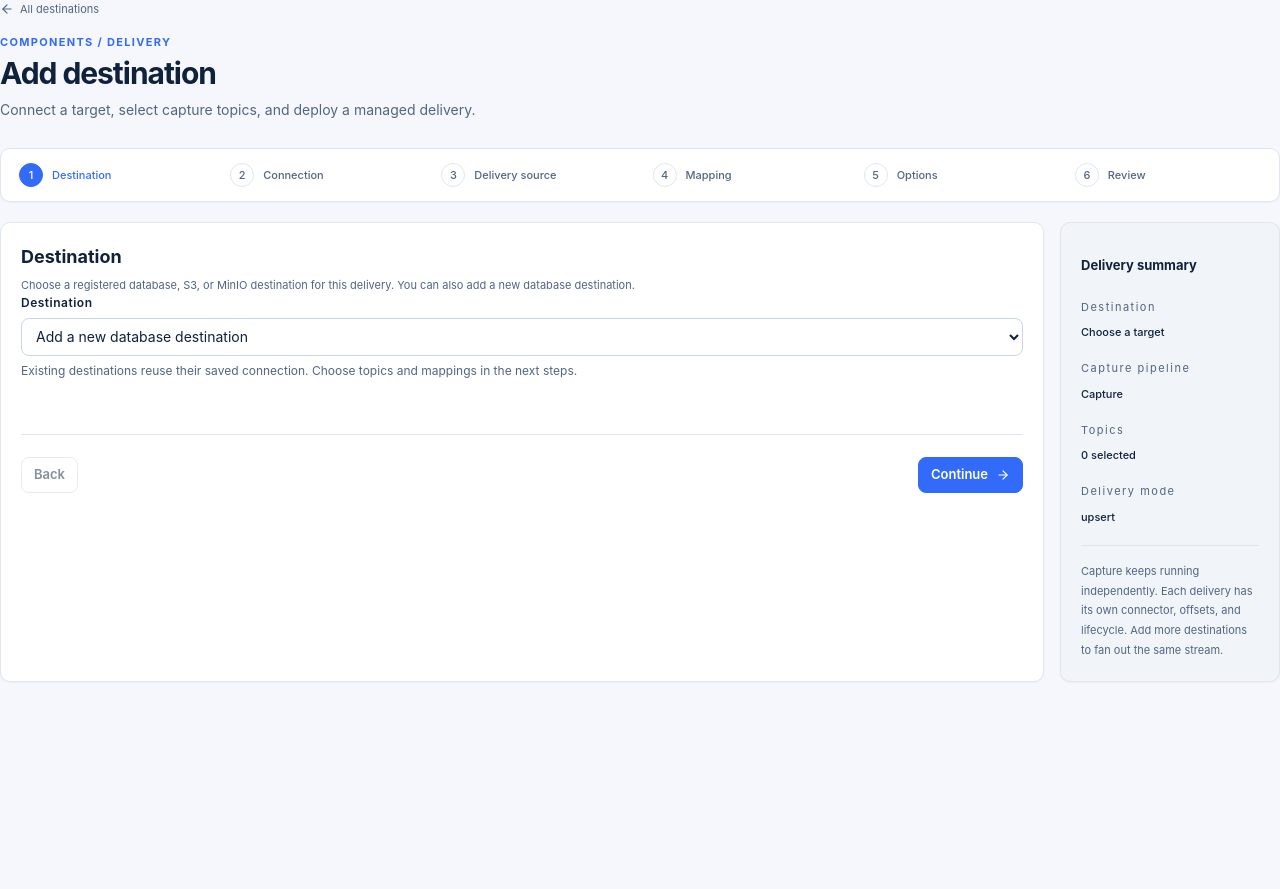
Scenario: reuses a registered destination and lets the user switch back to creating one
Step 1. Select "Analytics · PostgreSQL · PROD" in the dropdown labelled "Destination" → {"x": 522, "y": 337}, box x1=21 y1=318 x2=1023 y2=356
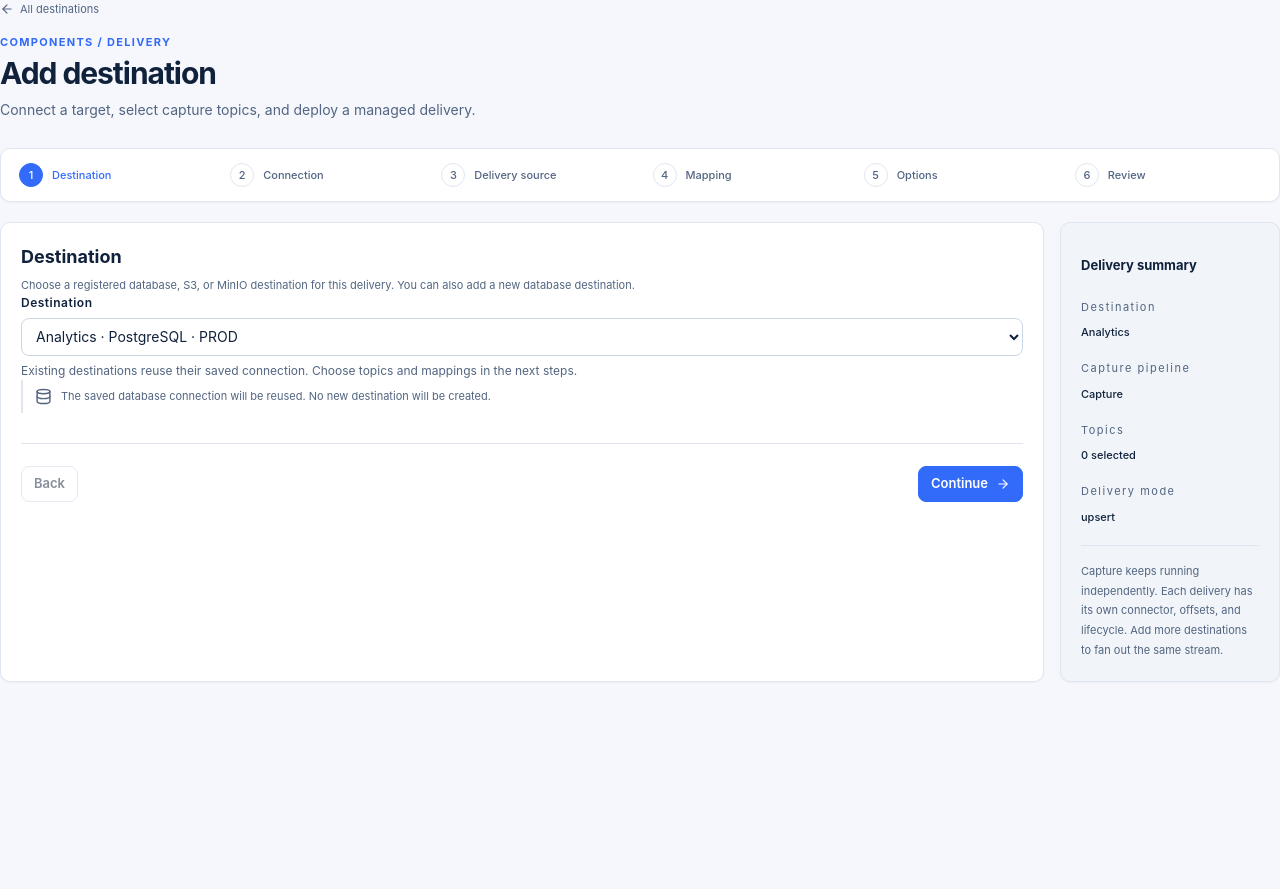
Step 2. Click the button "Continue" → {"x": 970, "y": 484}, box x1=918 y1=466 x2=1023 y2=502
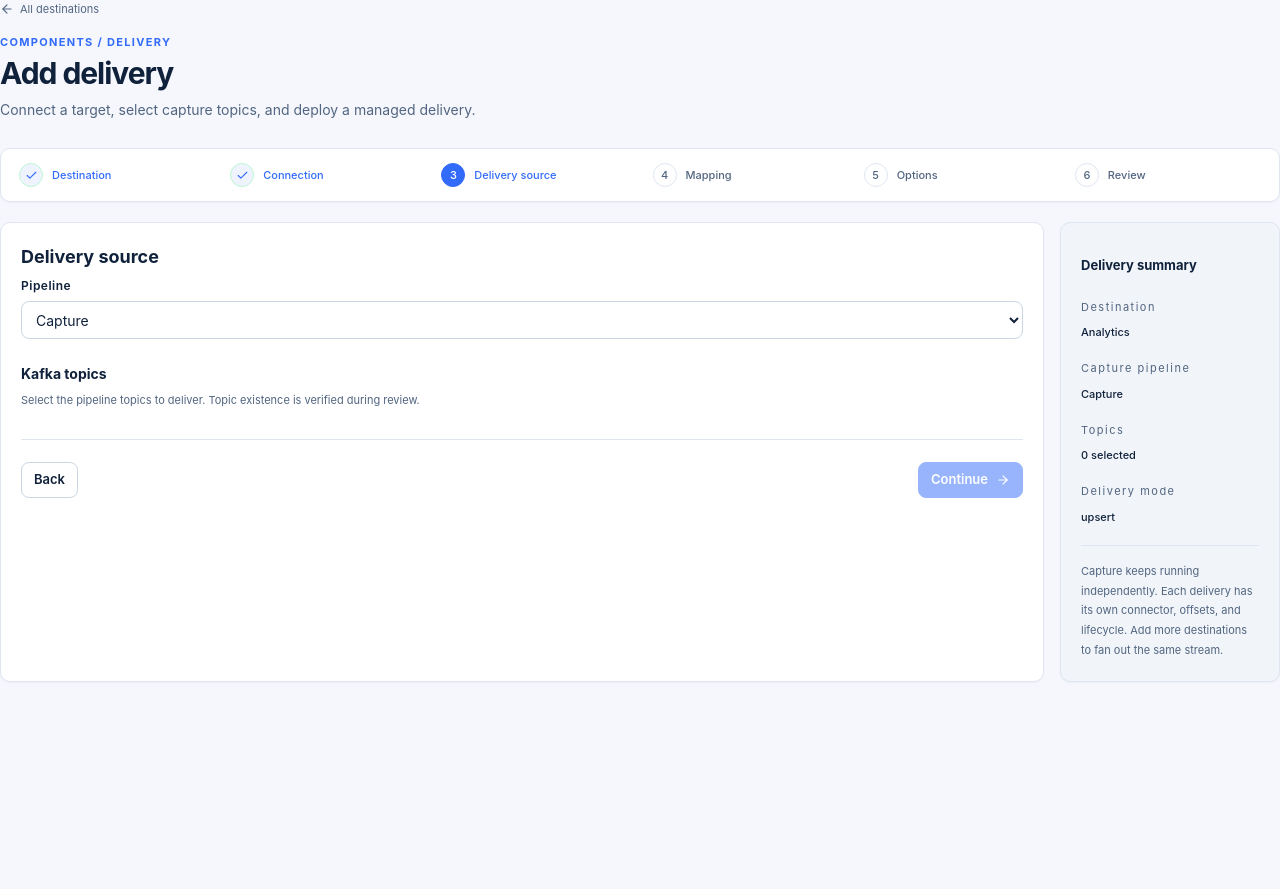
expect the field labelled "Password" is not shown: met
expect the heading "Add delivery" is shown: met, box x1=0 y1=55 x2=173 y2=91
expect the dropdown labelled "Pipeline" shows "Capture": met, box x1=21 y1=301 x2=1023 y2=339
Step 3. Click the button "Back" → {"x": 50, "y": 480}, box x1=21 y1=462 x2=78 y2=498
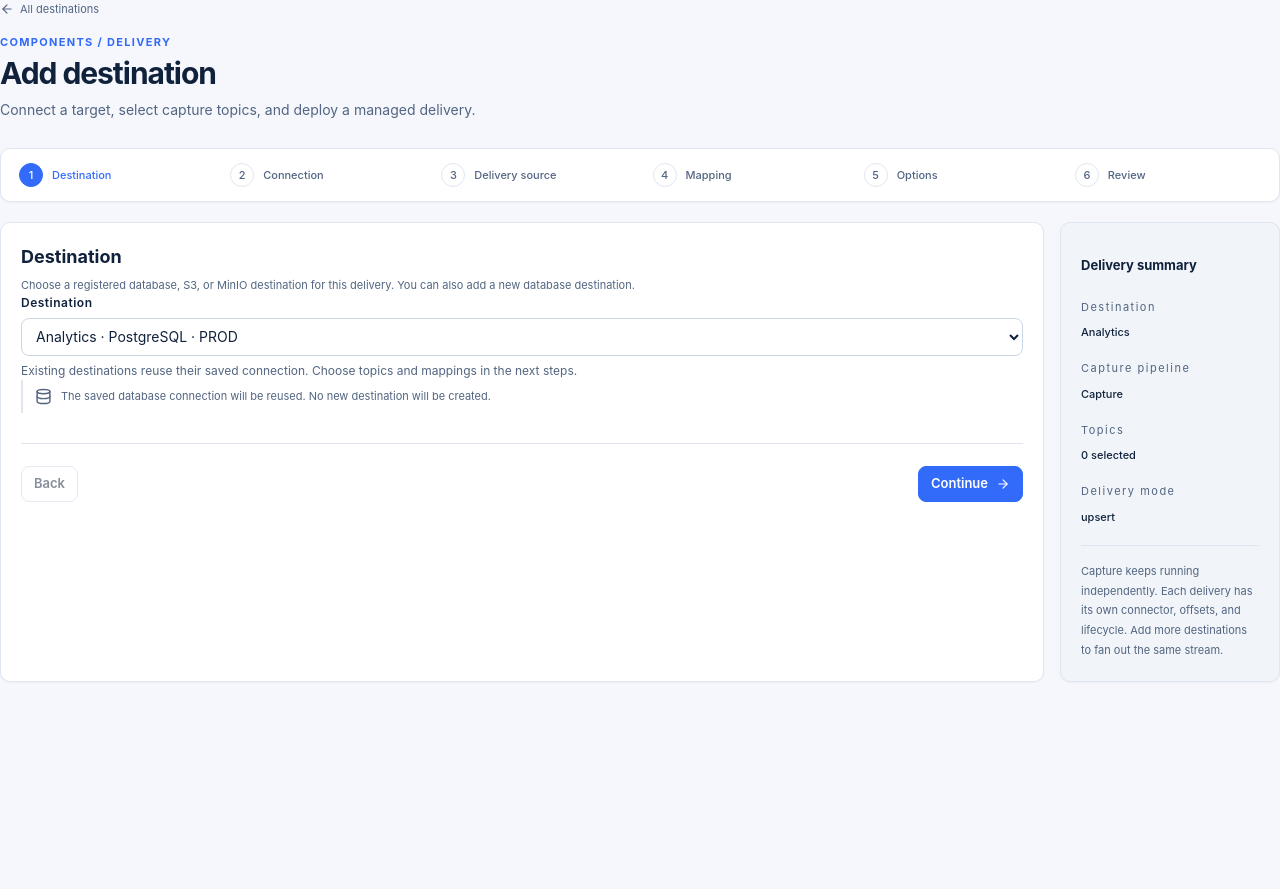
expect the dropdown labelled "Destination" shows "Analytics · PostgreSQL · PROD": met
Step 4. Select "Add a new database destination" in the dropdown labelled "Destination" → {"x": 522, "y": 337}, box x1=21 y1=318 x2=1023 y2=356
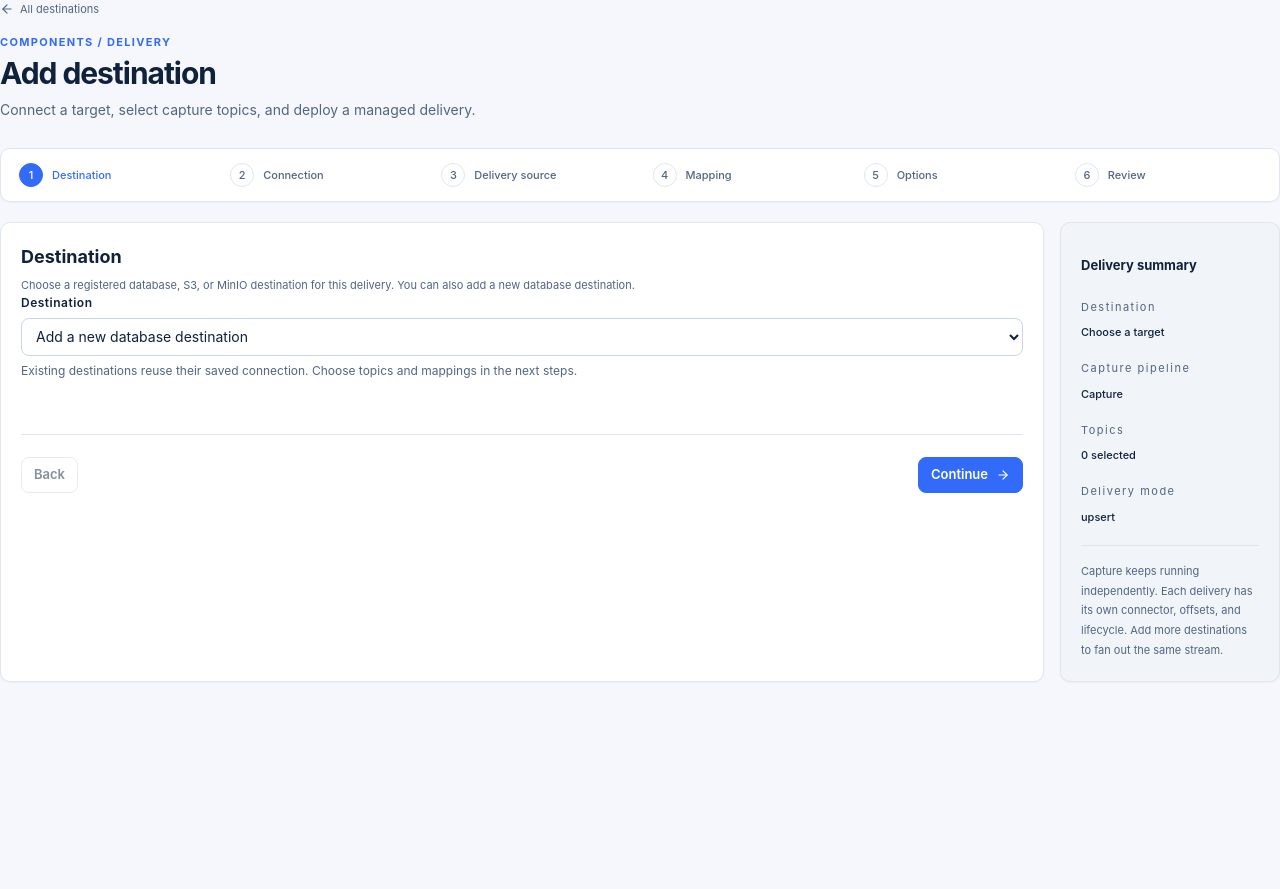
Step 5. Click the button "Continue" → {"x": 970, "y": 475}, box x1=918 y1=457 x2=1023 y2=493
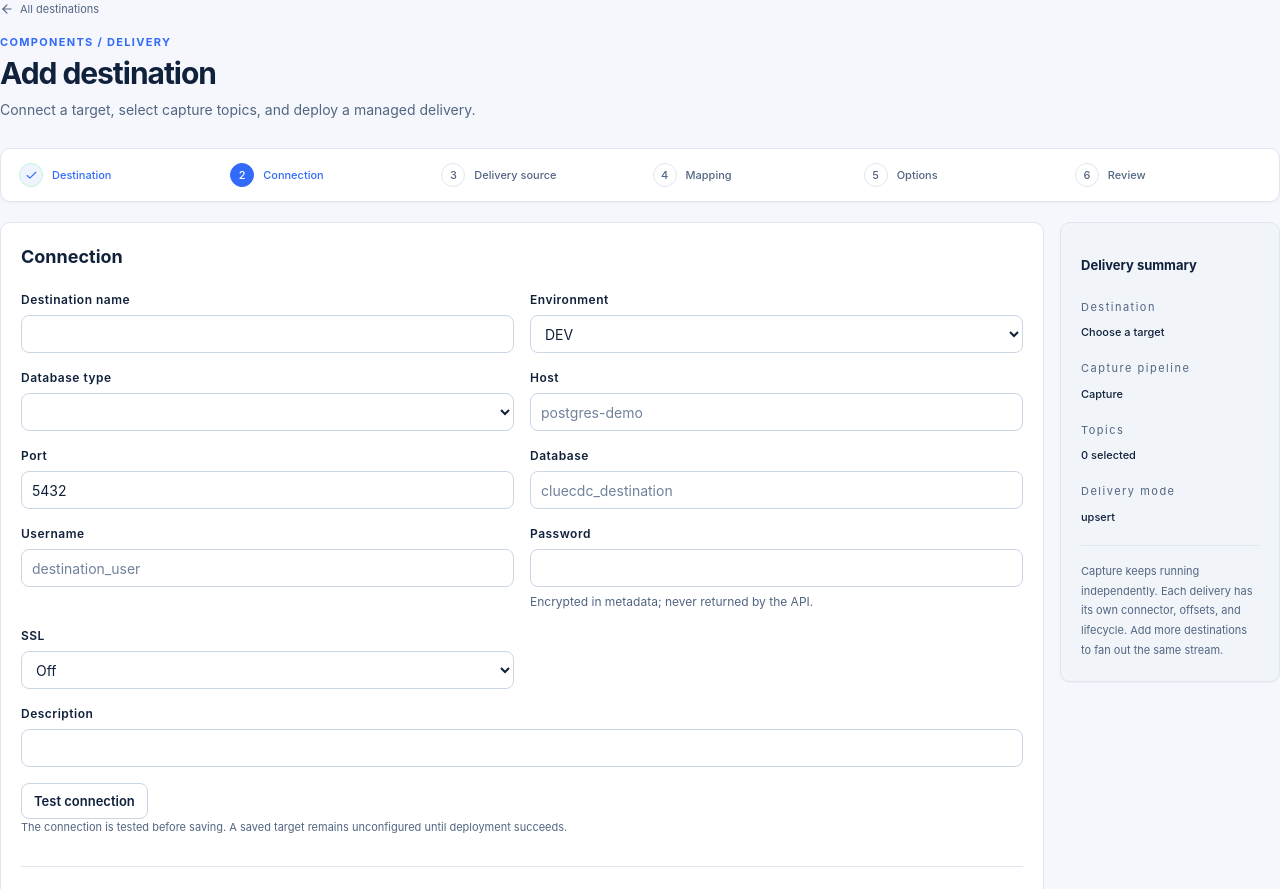
expect the heading "Add destination" is shown: met, box x1=0 y1=55 x2=216 y2=91
expect the password field labelled "Password" is shown: met, box x1=530 y1=549 x2=1023 y2=587
